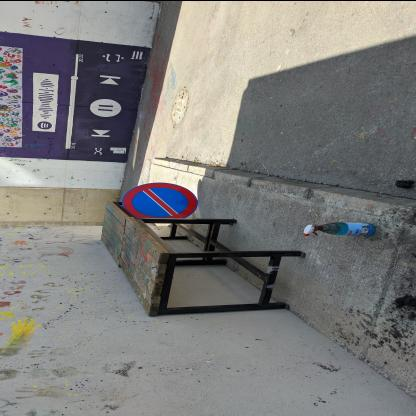No Waiting: (123, 183, 199, 219)
